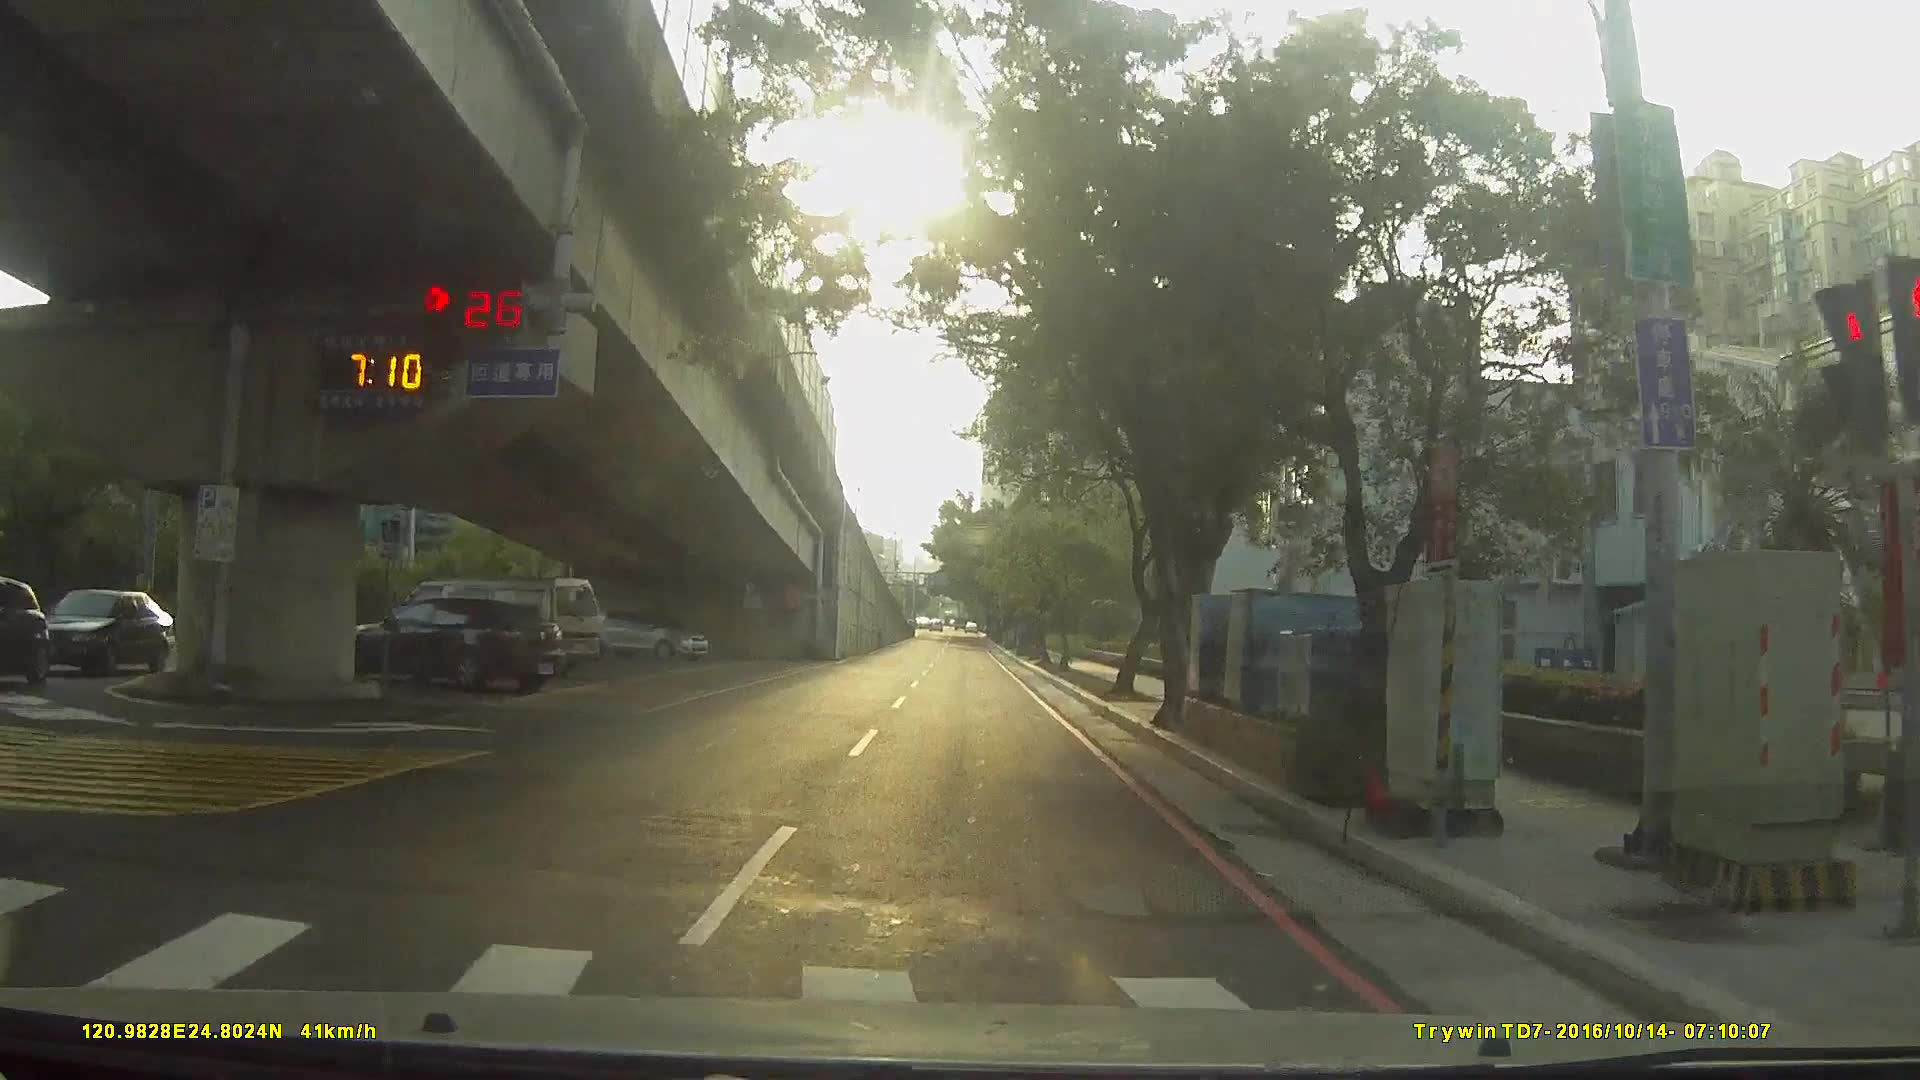vehicle: (320, 592, 559, 692), (380, 572, 596, 675), (40, 584, 185, 676), (582, 603, 709, 658), (1, 578, 58, 684)
